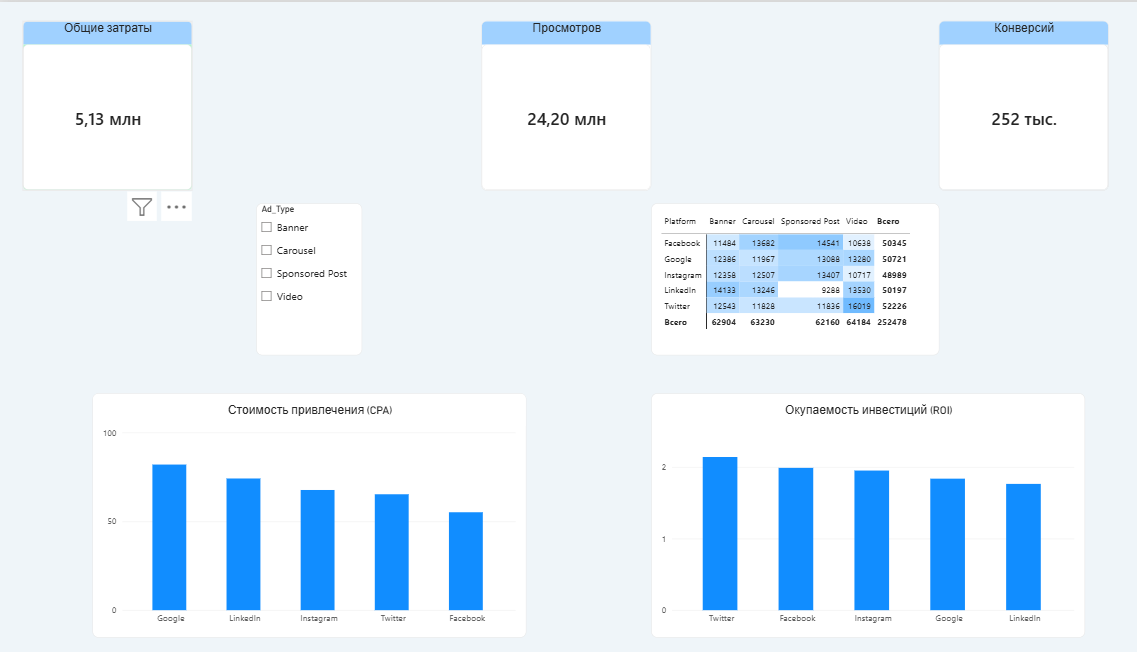

Layout of this report page (visuals, bound fields, positions):
{"tool":"powerbi","page":{"name":"Страница 1","canvas":[1920,1080],"ordinal":0},"visuals":[{"type":"cardVisual","title":"Общие затраты","fields":{"Data":["Sum(acp_clean.Spend)"]},"box":[36.7,30,280,280],"z":0},{"type":"cardVisual","title":"Просмотров","fields":{"Data":["Sum(acp_clean.Revenue)"]},"box":[791.7,30,280,280],"z":1000},{"type":"cardVisual","title":"Конверсий","fields":{"Data":["Sum(acp_clean.Conversions)"]},"box":[1546.7,30,280,280],"z":2000},{"type":"pivotTable","fields":{"Columns":["acp_clean.Ad_Type"],"Rows":["acp_clean.Platform"],"Values":["Sum(acp_clean.Conversions)"]},"box":[1072,332,474,250],"z":3000},{"type":"columnChart","title":"Стоимость привлечения (CPA)","fields":{"Category":["acp_clean.Platform"],"Y":["Avg(acp_clean.CPA)"]},"box":[152,644,714,402],"z":4000},{"type":"slicer","fields":{"Values":["acp_clean.Ad_Type"]},"box":[422,332,174,250],"z":5000},{"type":"columnChart","title":"Окупаемость инвестиций (ROI) ","fields":{"Category":["acp_clean.Platform"],"Y":["Avg(acp_clean.ROI)"]},"box":[1072,644,714,402],"z":6000}]}

Visuals, with their boxes in screenshot pixels (x1, y1, x2, y2), scaled from the page's 1920x1080 canvas onto the 1137x652 screenshot:
"Общие затраты" cardVisual: select_region(22, 18, 188, 187)
"Просмотров" cardVisual: select_region(469, 18, 635, 187)
"Конверсий" cardVisual: select_region(916, 18, 1082, 187)
pivotTable - acp_clean.Ad_Type x acp_clean.Platform: select_region(635, 200, 916, 351)
"Стоимость привлечения (CPA)" columnChart: select_region(90, 389, 513, 631)
slicer - acp_clean.Ad_Type: select_region(250, 200, 353, 351)
"Окупаемость инвестиций (ROI) " columnChart: select_region(635, 389, 1058, 631)
